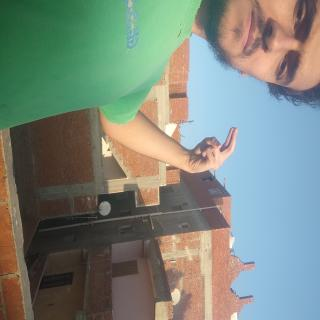ZAY: (92, 103, 134, 181)
